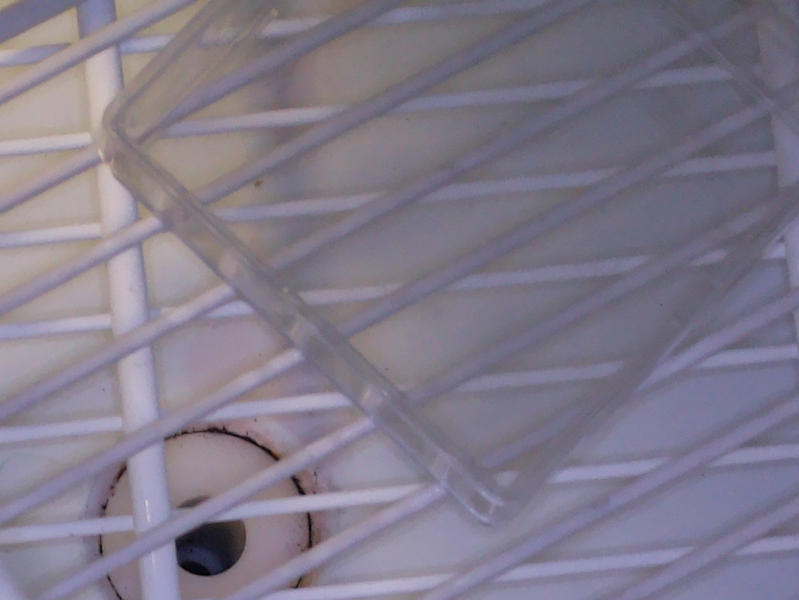plate: (94, 1, 799, 529)
